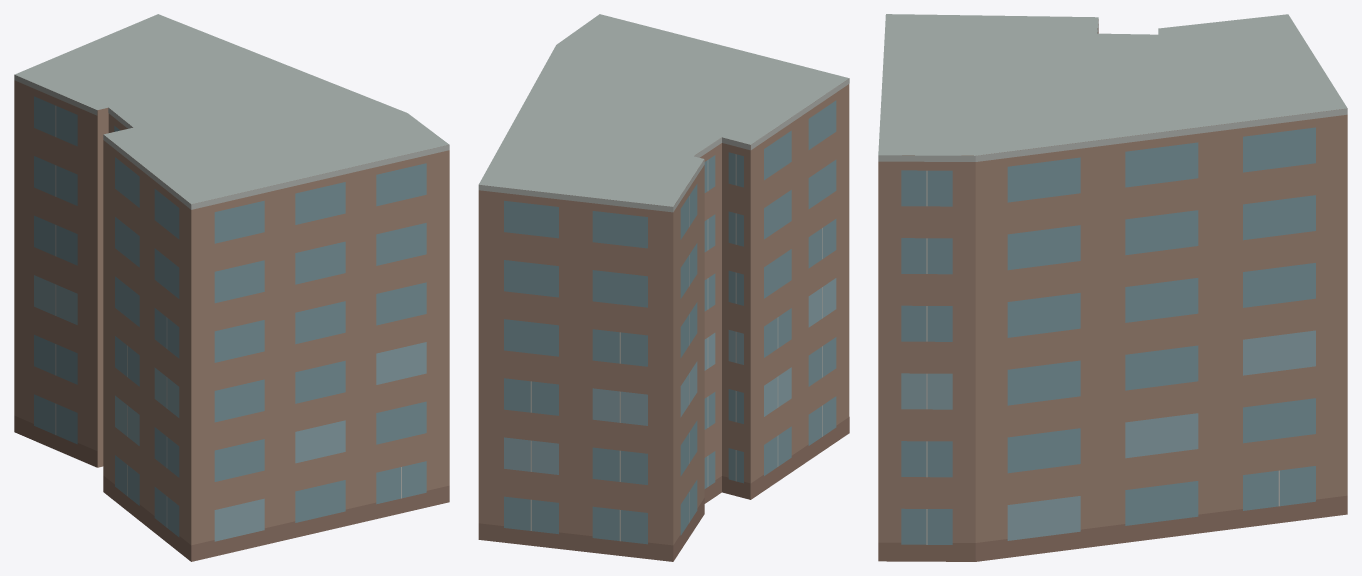
File: survey-upis-32569341.glb
3 views of the same model, side by side, from view 1: azimuth 30°, elevation 25°; view 2: azimuth 150°, elevation 25°; view 3: azimuth 270°, elevation 25° (orthographic). The views are drawn at different scales.
Parts seen in each view (by area): view 1: survey-upis-32569341.tmp; view 2: survey-upis-32569341.tmp; view 3: survey-upis-32569341.tmp.
Part boxes in pixels (<box>): survey-upis-32569341.tmp: <box>14,14,449,561</box>; survey-upis-32569341.tmp: <box>478,14,849,561</box>; survey-upis-32569341.tmp: <box>878,14,1347,561</box>.
Bounding box in the file's own units: 11.77 × 15.7 × 16.46.
